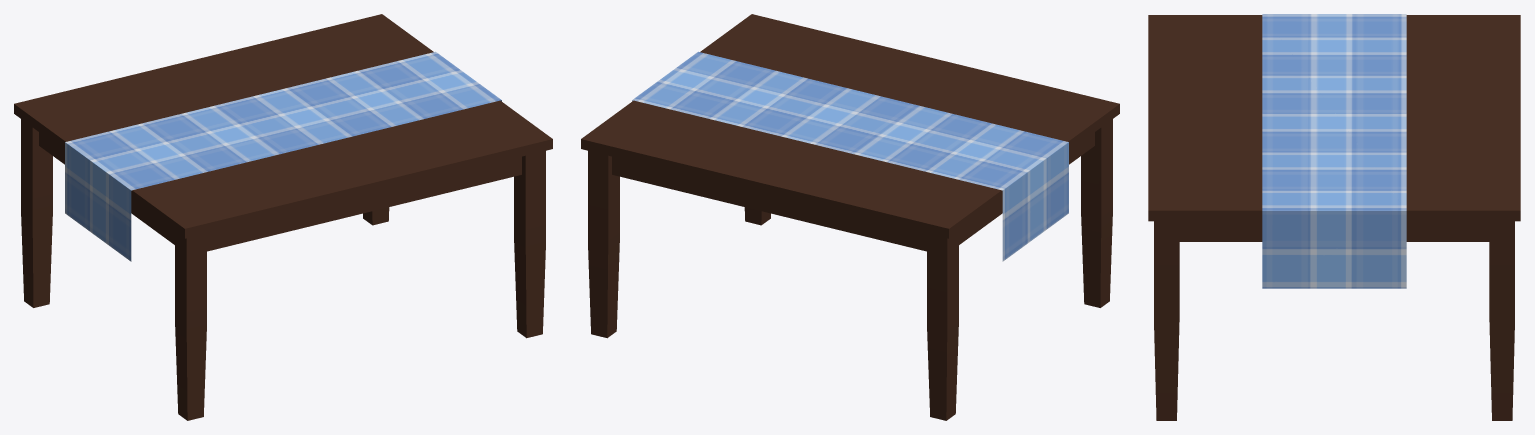
The model's file is furniture_diningtable.fbx.
3 renders of one model, left to right at view 1: azimuth 30°, elevation 25°; view 2: azimuth 150°, elevation 25°; view 3: azimuth 270°, elevation 25°, orthographic. The views are drawn at different scales.
Parts seen in each view (by area): view 1: dining_table; view 2: dining_table; view 3: dining_table.
Part boxes in pixels (left/top/right/bottom): dining_table: left=14, top=14, right=552, bottom=420; dining_table: left=581, top=14, right=1119, bottom=420; dining_table: left=1148, top=14, right=1520, bottom=420.
Bounding box in the file's own units: 38.26 × 19.4 × 30.55.
